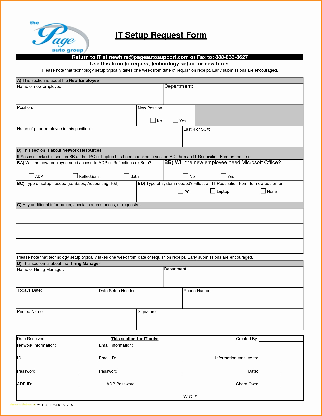checkbox: (148, 116, 157, 124), (177, 187, 185, 195), (209, 187, 217, 195), (259, 187, 267, 195), (122, 172, 131, 179), (172, 117, 180, 124), (71, 171, 78, 179), (219, 173, 228, 179), (28, 172, 35, 179), (182, 173, 189, 179)
textbox: (15, 220, 305, 242), (14, 236, 305, 255), (14, 206, 304, 225), (14, 123, 185, 149), (134, 307, 305, 331), (14, 82, 166, 107), (14, 265, 165, 290), (162, 81, 305, 107), (162, 264, 306, 289), (180, 285, 306, 312), (180, 122, 305, 149), (14, 305, 138, 332), (14, 103, 140, 128), (14, 180, 139, 203), (94, 285, 185, 311), (14, 285, 101, 311)
textline: (116, 353, 186, 363), (119, 366, 185, 376), (135, 379, 187, 389), (23, 354, 80, 363), (33, 379, 79, 389), (36, 367, 80, 376), (258, 336, 302, 343), (258, 367, 284, 376), (258, 354, 282, 363), (258, 380, 282, 389)
